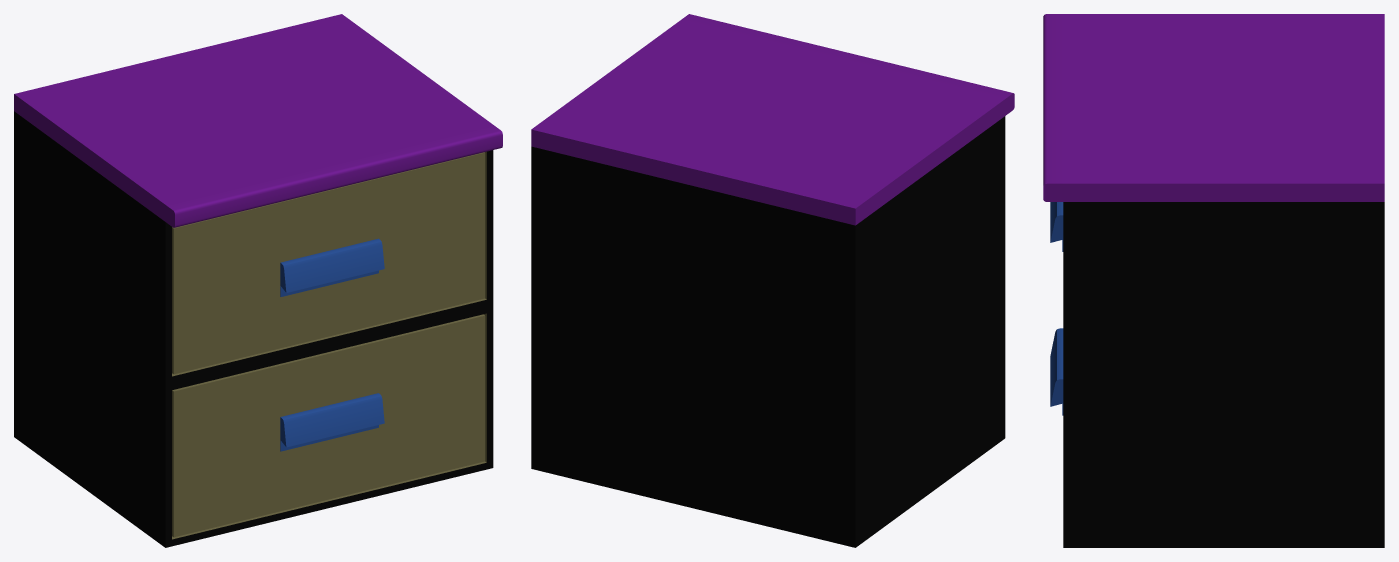
The model's file is Mesa.fbx.
3 renders of one model, left to right at view 1: azimuth 30°, elevation 25°; view 2: azimuth 150°, elevation 25°; view 3: azimuth 270°, elevation 25°, orthographic. The views are drawn at different scales.
Parts seen in each view (by area): view 1: Mesa; view 2: Mesa; view 3: Mesa.
Boxes of the visible parts, x1,y1,x2,y2 form: Mesa: (14, 14, 502, 547); Mesa: (531, 14, 1014, 547); Mesa: (1043, 14, 1384, 547).
Size of the model in its own units: 1 by 1 by 0.85.
